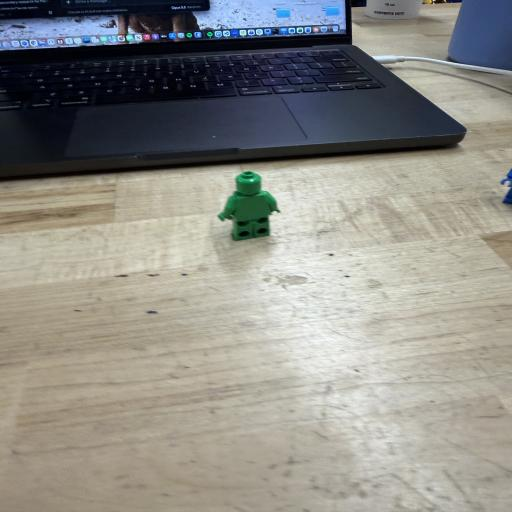blue-minifig: (501, 169, 512, 187), (503, 188, 512, 204)
green-minifig: (218, 172, 280, 240), (233, 193, 271, 221)
